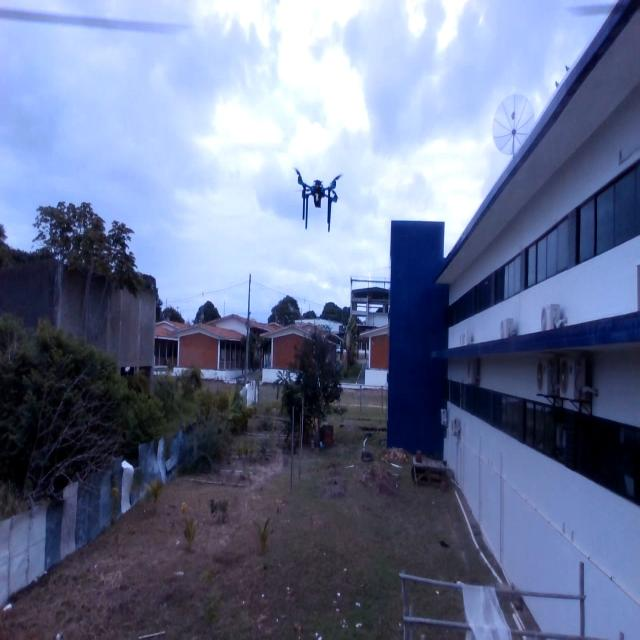-uav-: (286, 145, 345, 239)
